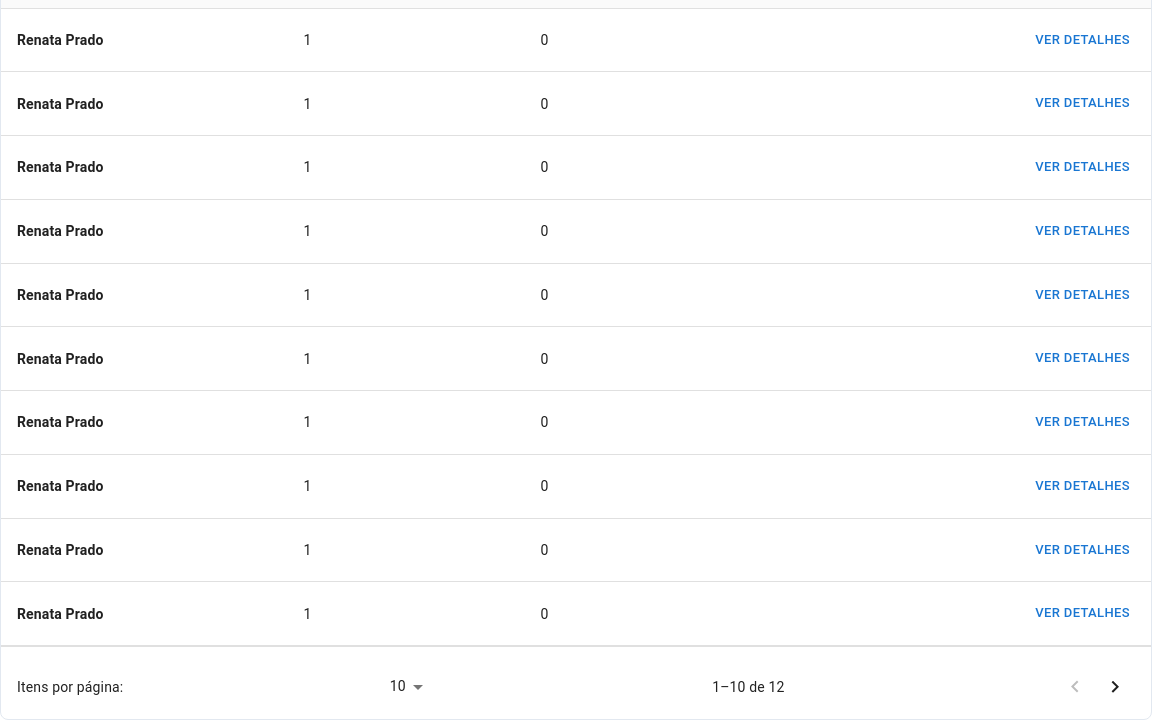
Test: ClientsPage › paginates clients when list exceeds rowsPerPage
The width and height of the screenshot is (1152, 720).
(page scrolled)
Click the button named "Go to next page" at (1115, 687), box [1095,667,1135,707]
(page scrolled)
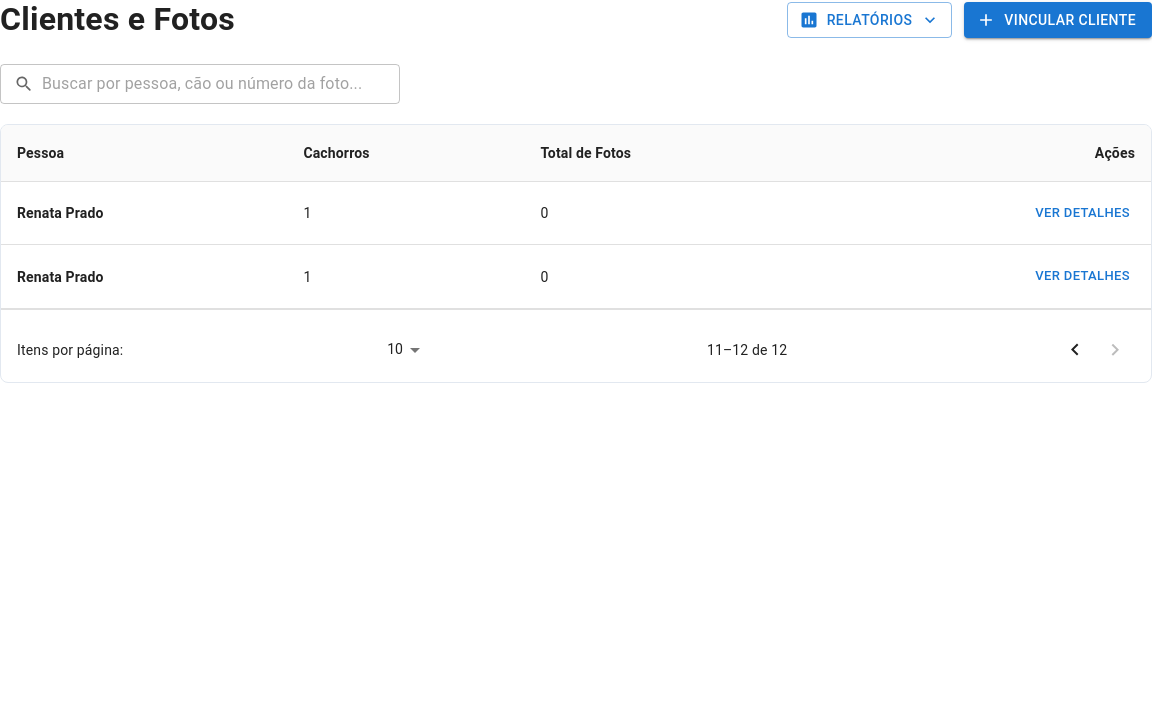
Now the text "Renata Prado" is shown 2 times, box [1,181,287,245]; [1,245,287,309]
